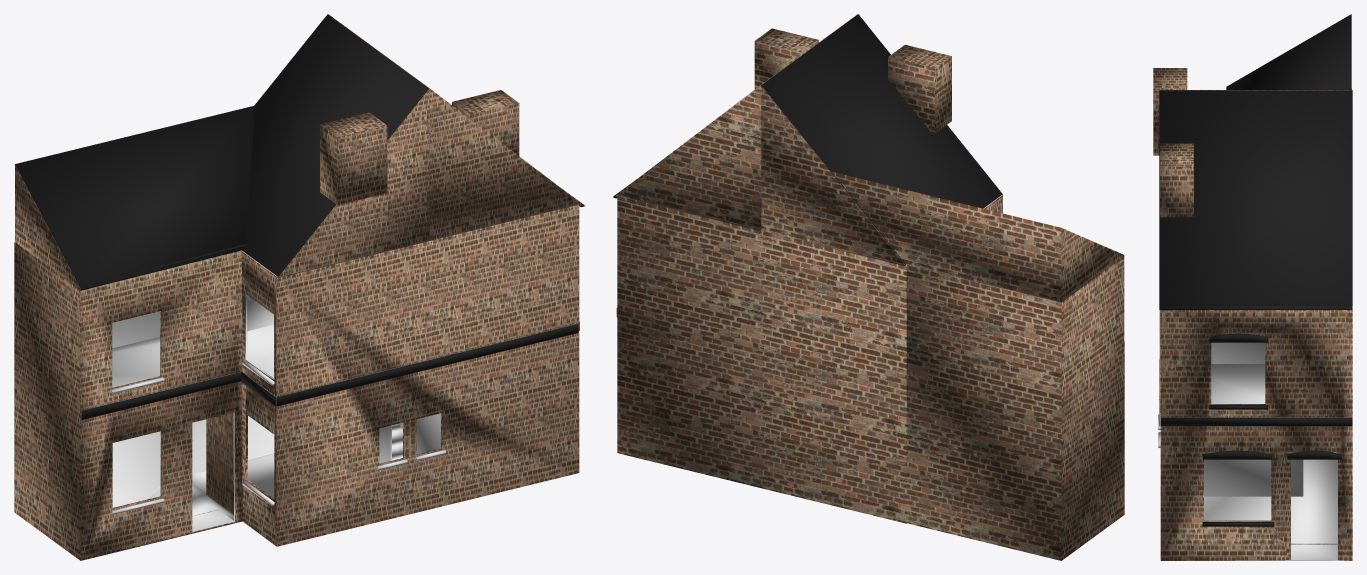
The model's file is myhousefullshape.glb.
3 views of the same model, side by side, from view 1: azimuth 30°, elevation 25°; view 2: azimuth 150°, elevation 25°; view 3: azimuth 270°, elevation 25° (orthographic). The views are drawn at different scales.
Visible parts, largest first — view 1: Cube.039; view 2: Cube.039; view 3: Cube.039.
Boxes of the visible parts, x1,y1,x2,y2 form: Cube.039: (14, 14, 584, 560); Cube.039: (613, 14, 1124, 560); Cube.039: (1153, 14, 1352, 560).
Bounding box in the file's own units: 29.39 × 25.26 × 11.39.
4 materials, 1 textured.
